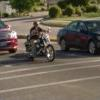Motorcycle: (21, 24, 56, 70)
